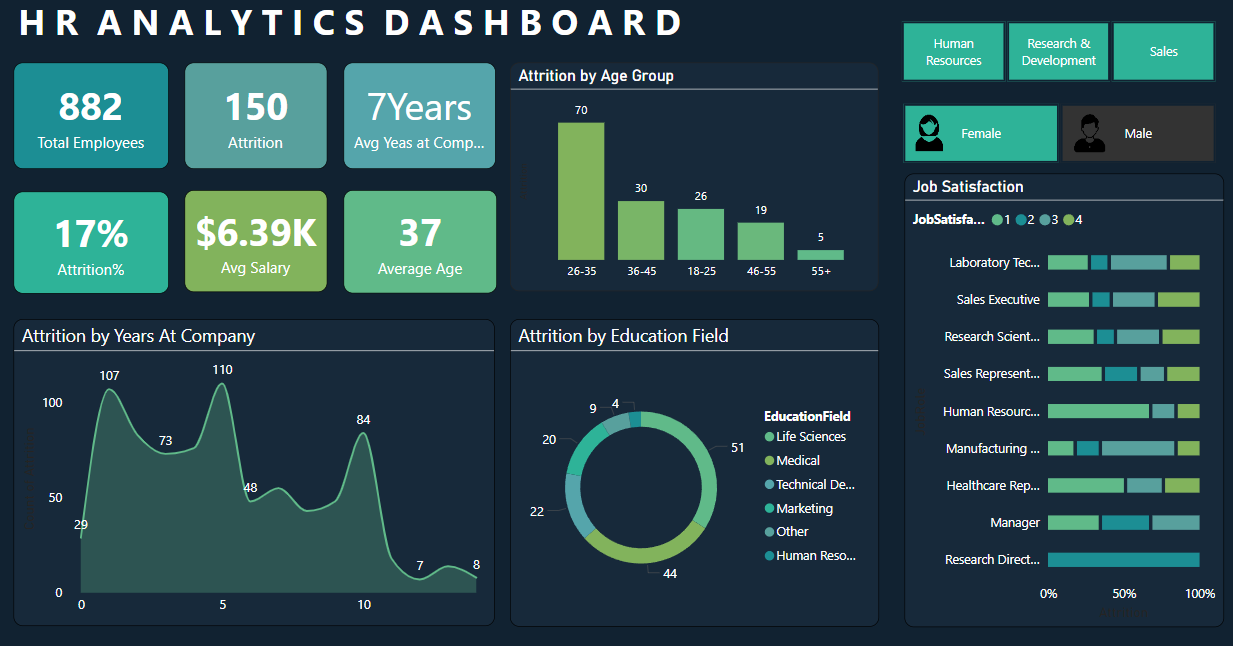

The dashboard page shown, as its layout file describes it:
{"tool":"powerbi","page":{"name":"Page 1","canvas":[1317,720],"ordinal":0},"visuals":[{"type":"card","title":"Total Employees","fields":{"Values":["Measures (2).employee_count"]},"box":[15,75,165,113.3],"z":0},{"type":"areaChart","title":"Attrition by Years At Company","fields":{"Y":["CountNonNull(HR_Analytics.Attrition)"],"Category":["HR_Analytics.YearsAtCompany"]},"box":[15,348.3,511.7,326.7],"z":1000},{"type":"card","fields":{"Values":["Measures (2).Avg_Years_at_Company"]},"box":[365,75,161.7,113.3],"z":2000},{"type":"card","fields":{"Values":["Measures (2).Attrition%"]},"box":[15,211.7,165,108.3],"z":3000},{"type":"card","fields":{"Values":["Measures (2).AvgSalary"]},"box":[196.7,210,151.7,108.3],"z":4000},{"type":"card","fields":{"Values":["Measures (2).AverageAge"]},"box":[365,210,163.3,110],"z":5000},{"type":"donutChart","title":"Attrition by Education Field","fields":{"Y":["Measures (2).Attrition"],"Category":["HR_Analytics.EducationField"]},"box":[542.5,347.5,392.5,327.5],"z":6000},{"type":"columnChart","title":"Attrition by Age Group","fields":{"Category":["HR_Analytics.AgeGroup"],"Y":["Measures (2).employee_attrition"]},"box":[543.3,75,391.7,243.3],"z":7000},{"type":"hundredPercentStackedBarChart","title":"Job Satisfaction","fields":{"Y":["Measures (2).employee_attrition"],"Series":["HR_Analytics.JobSatisfaction"],"Category":["HR_Analytics.JobRole"]},"box":[963.3,193.3,340,481.7],"z":8000},{"type":"card","fields":{"Values":["Measures (2).employee_attrition"]},"box":[196.7,75,151.7,113.3],"z":9000},{"type":"advancedSlicerVisual","fields":{"Values":["HR_Analytics.Gender"]},"box":[965,75,340,103.3],"z":10000},{"type":"advancedSlicerVisual","fields":{"Values":["HR_Analytics.Department"]},"box":[611.7,5,705,56.7],"z":11000},{"type":"textbox","box":[15,10,546.7,51.7],"z":12000},{"type":"actionButton","box":[1260,676.7,56.7,40],"z":13000}]}

Visuals, with their boxes on the page's 1317x720 design canvas (x1, y1, x2, y2). These are canvas units, not pixel positions in the 1233x646 screenshot, which may show the page scaled, cropped or inside an application window:
"Total Employees" card: [left=15, top=75, right=180, bottom=188]
"Attrition by Years At Company" areaChart: [left=15, top=348, right=527, bottom=675]
card - Measures (2).Avg_Years_at_Company: [left=365, top=75, right=527, bottom=188]
card - Measures (2).Attrition%: [left=15, top=212, right=180, bottom=320]
card - Measures (2).AvgSalary: [left=197, top=210, right=348, bottom=318]
card - Measures (2).AverageAge: [left=365, top=210, right=528, bottom=320]
"Attrition by Education Field" donutChart: [left=542, top=348, right=935, bottom=675]
"Attrition by Age Group" columnChart: [left=543, top=75, right=935, bottom=318]
"Job Satisfaction" hundredPercentStackedBarChart: [left=963, top=193, right=1303, bottom=675]
card - Measures (2).employee_attrition: [left=197, top=75, right=348, bottom=188]
advancedSlicerVisual - HR_Analytics.Gender: [left=965, top=75, right=1305, bottom=178]
advancedSlicerVisual - HR_Analytics.Department: [left=612, top=5, right=1317, bottom=62]
textbox: [left=15, top=10, right=562, bottom=62]
actionButton: [left=1260, top=677, right=1317, bottom=717]
